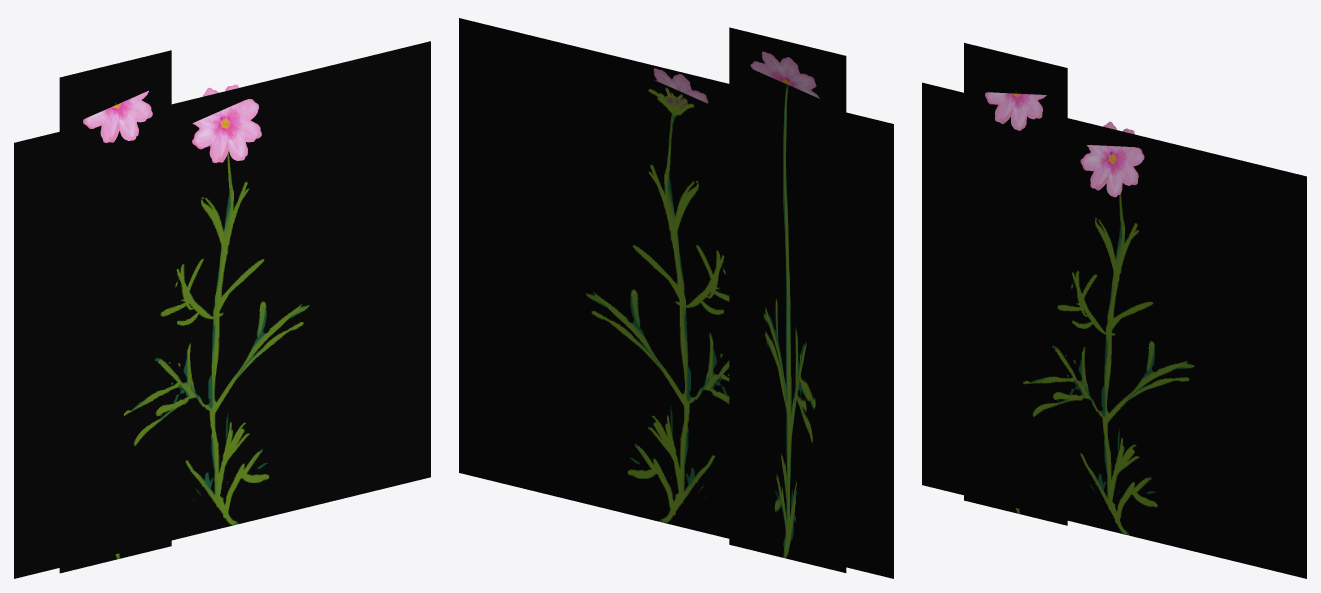
Rendered from コスモス.fbx.
3 views of the same model, side by side, from view 1: azimuth 30°, elevation 25°; view 2: azimuth 150°, elevation 25°; view 3: azimuth 330°, elevation 25° (orthographic). The views are drawn at different scales.
Parts seen in each view (by area): view 1: 平面.002, 平面.001, 平面.003, 平面; view 2: 平面.002, 平面.001, 平面, 平面.003; view 3: 平面.002, 平面.001, 平面.003, 平面.
Boxes of the visible parts, x1,y1,x2,y2 form: 平面.002: [14, 41, 430, 578]; 平面.001: [59, 50, 171, 573]; 平面.003: [192, 84, 261, 163]; 平面: [83, 90, 152, 143]; 平面.002: [459, 18, 893, 578]; 平面.001: [729, 27, 846, 572]; 平面: [750, 51, 819, 98]; 平面.003: [653, 68, 708, 103]; 平面.002: [922, 82, 1306, 578]; 平面.001: [964, 43, 1067, 525]; 平面.003: [1080, 121, 1144, 197]; 平面: [985, 92, 1046, 130].
Bounding box in the file's own units: 743 × 906 × 107.
3 materials, 3 textured.
